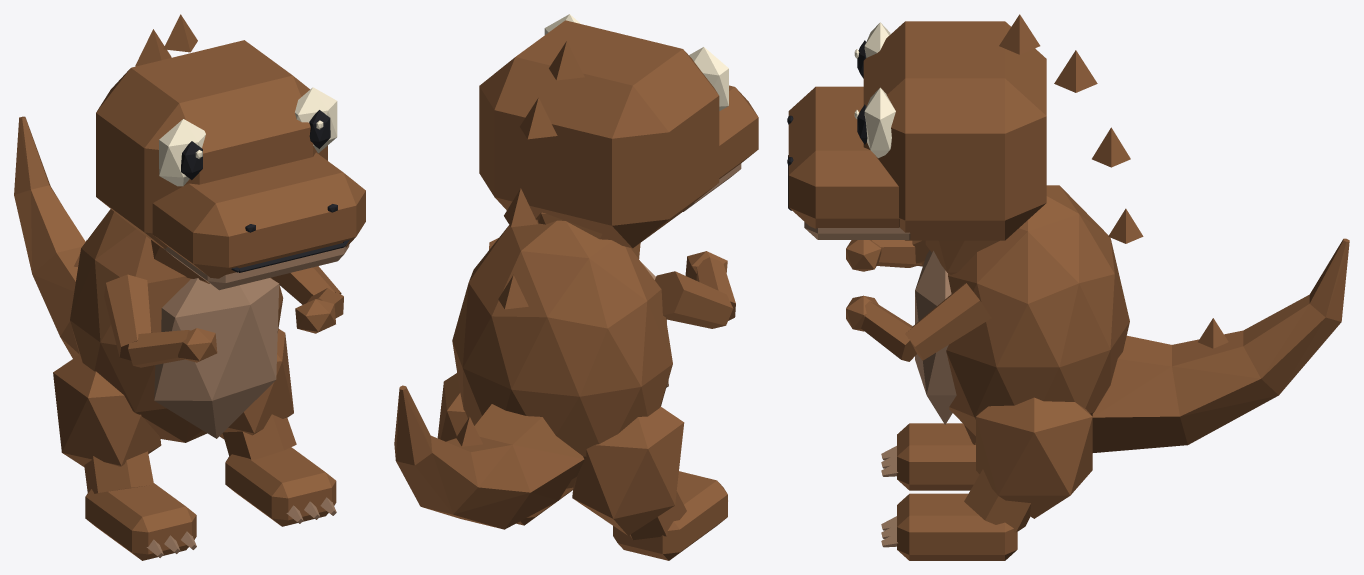
Rendered from Dinosaure_marron.glb.
3 views of the same model, side by side, from view 1: azimuth 30°, elevation 25°; view 2: azimuth 150°, elevation 25°; view 3: azimuth 270°, elevation 25° (orthographic). The views are drawn at different scales.
Visible parts, largest first — view 1: Dinosaure_marron; view 2: Dinosaure_marron; view 3: Dinosaure_marron.
Boxes of the visible parts, bbox=[...] form: Dinosaure_marron: bbox=[14, 14, 365, 560]; Dinosaure_marron: bbox=[394, 14, 758, 560]; Dinosaure_marron: bbox=[787, 14, 1349, 560].
Size of the model in its own units: 1.28 by 2.66 by 2.7.
